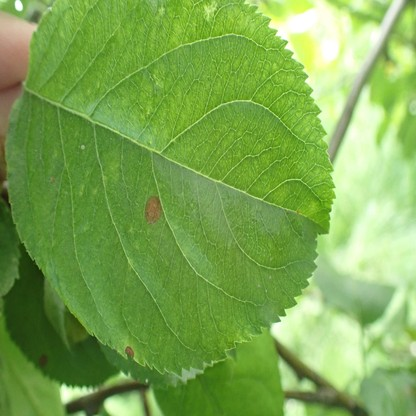frogeye_leaf_spot: (145, 194, 162, 226), (38, 355, 47, 367), (125, 345, 134, 356)
